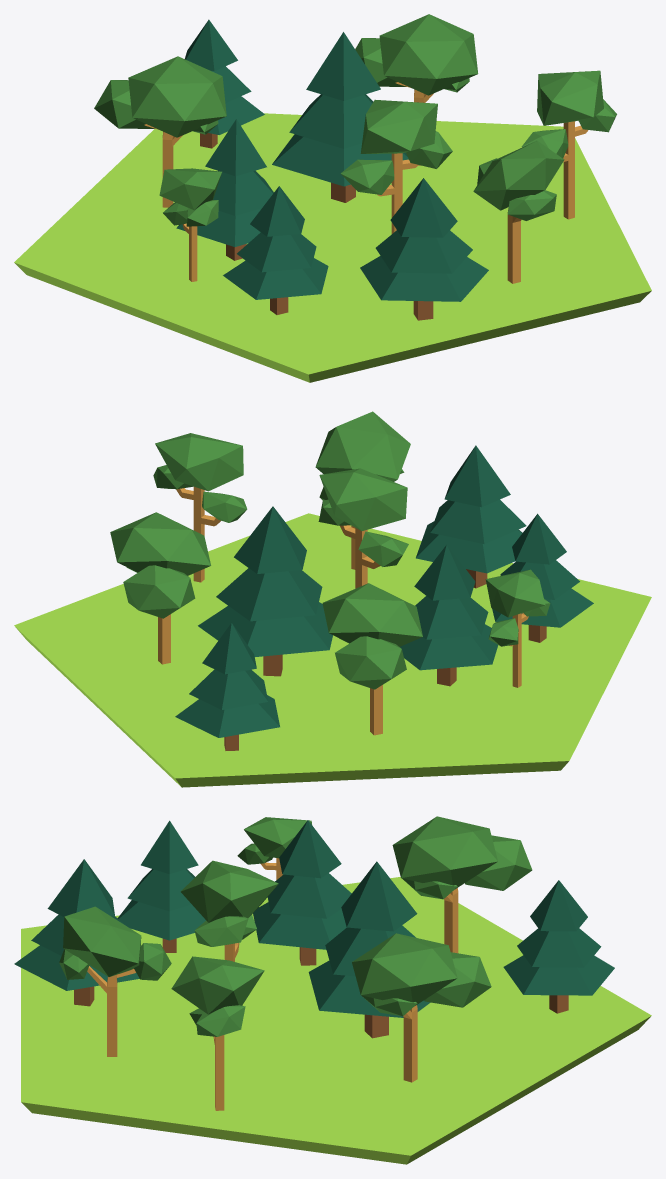
File: TuileForestMix.fbx
3 renders of one model, top to bottom at view 1: azimuth 30°, elevation 25°; view 2: azimuth 150°, elevation 25°; view 3: azimuth 270°, elevation 25°, orthographic. The views are drawn at different scales.
Visible parts, largest first — view 1: G_F_leaf.004; view 2: G_F_leaf.004; view 3: G_F_leaf.004.
Boxes of the visible parts, x1,y1,x2,y2 form: G_F_leaf.004: (14, 14, 651, 382); G_F_leaf.004: (14, 411, 651, 787); G_F_leaf.004: (14, 816, 651, 1164).
Size of the model in its own units: 111 by 34.35 by 106.
